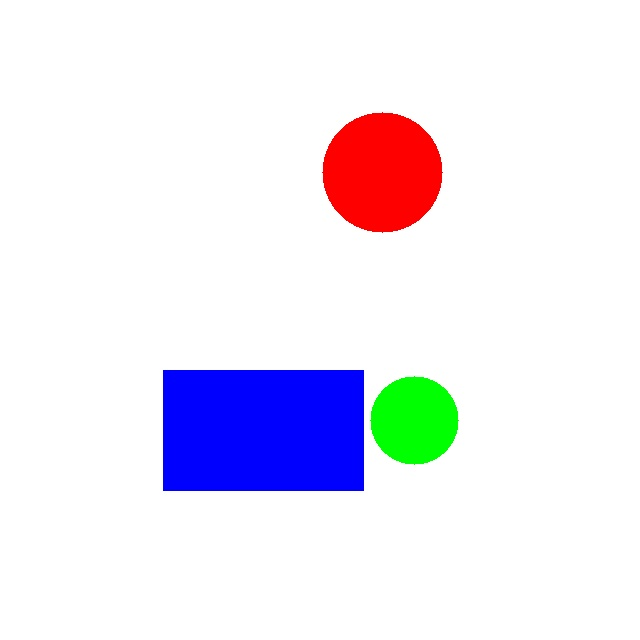cartao: (163, 370, 363, 490)
rosca_externa: (370, 376, 458, 464)
rosca_interna: (322, 112, 442, 232)
